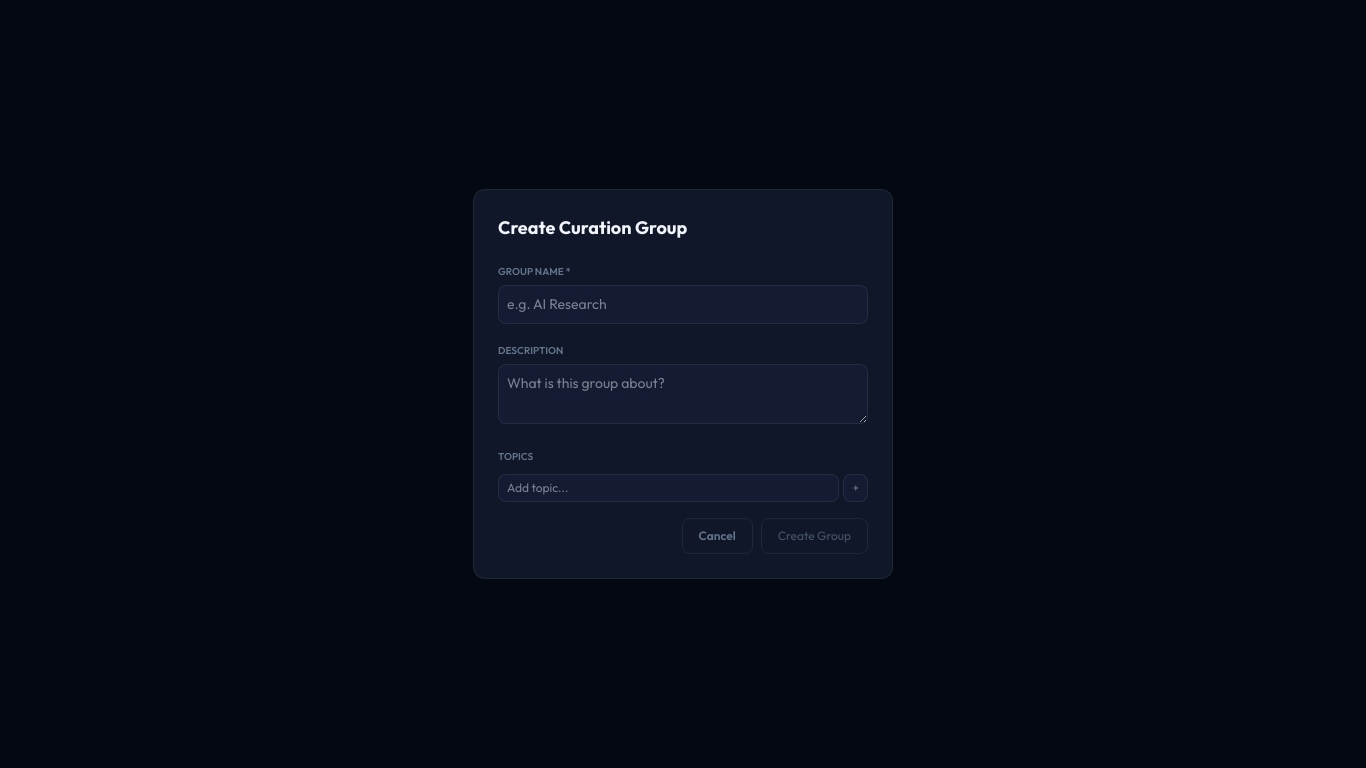
Scenario: CreateGroupModal › removes topic when x is clicked
This screenshot has width=1366, height=768.
Type "removeme" into the field with placeholder "Add topic..." at (669, 488), box top-left (498, 474), bottom-right (840, 502)
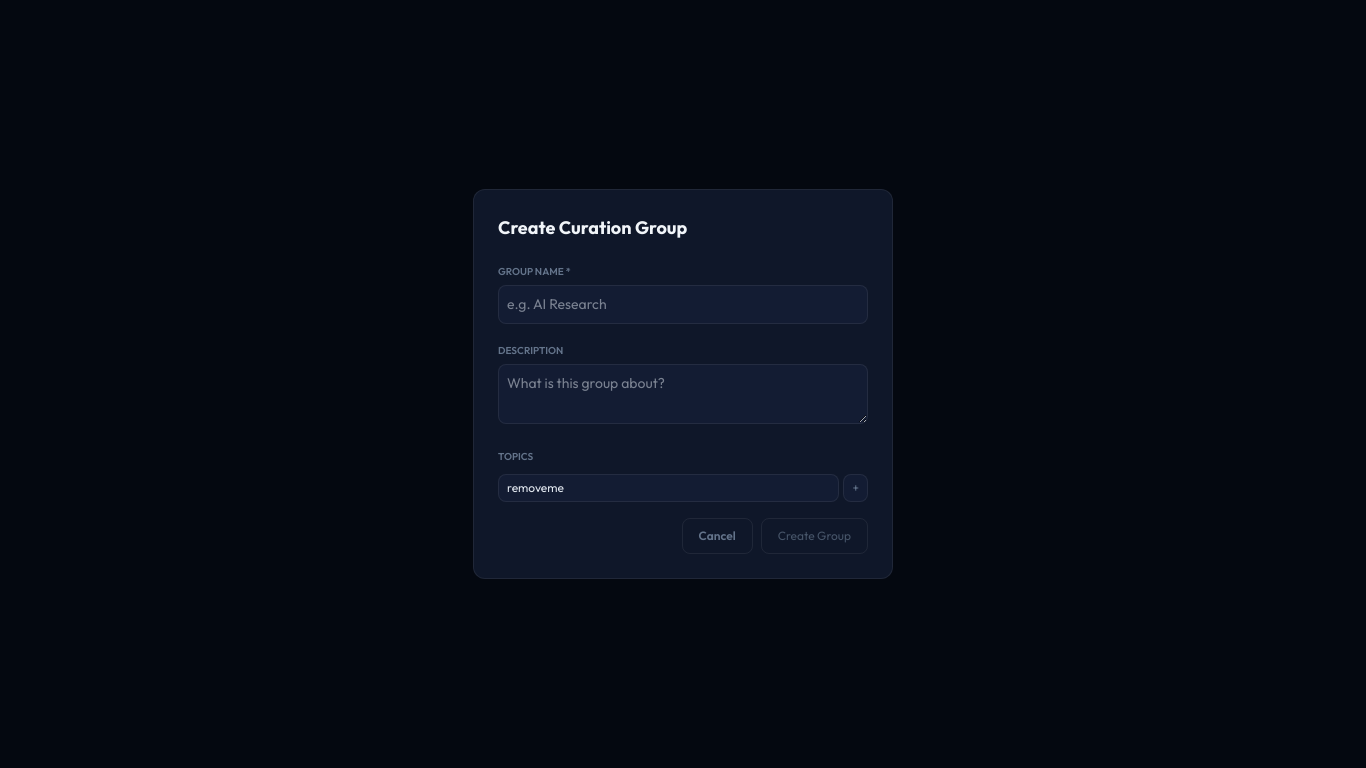
Click the button "+" at (856, 488), box top-left (844, 474), bottom-right (868, 502)
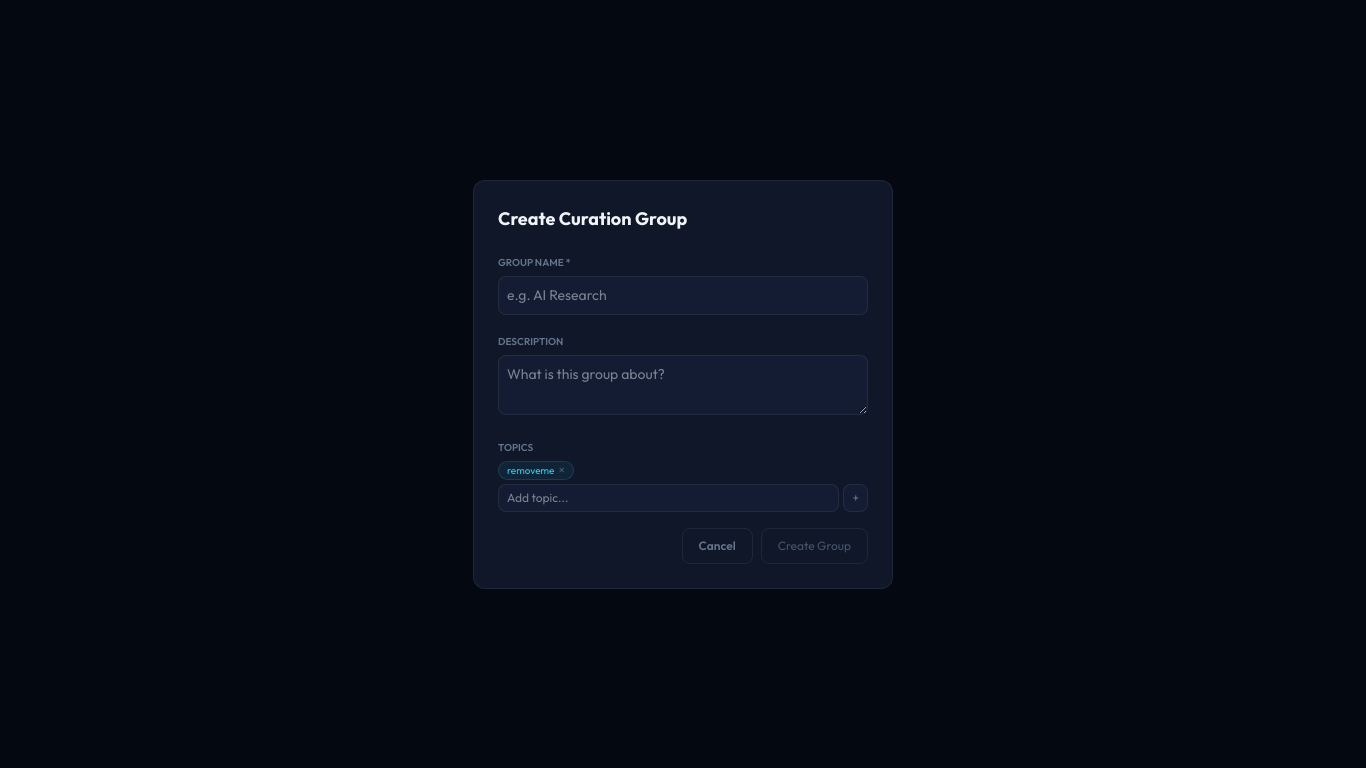
Expected: the text "removeme" is shown, top-left (507, 464), bottom-right (554, 476)
Click the × button
Click the button "×" at (562, 470), box top-left (558, 464), bottom-right (565, 476)
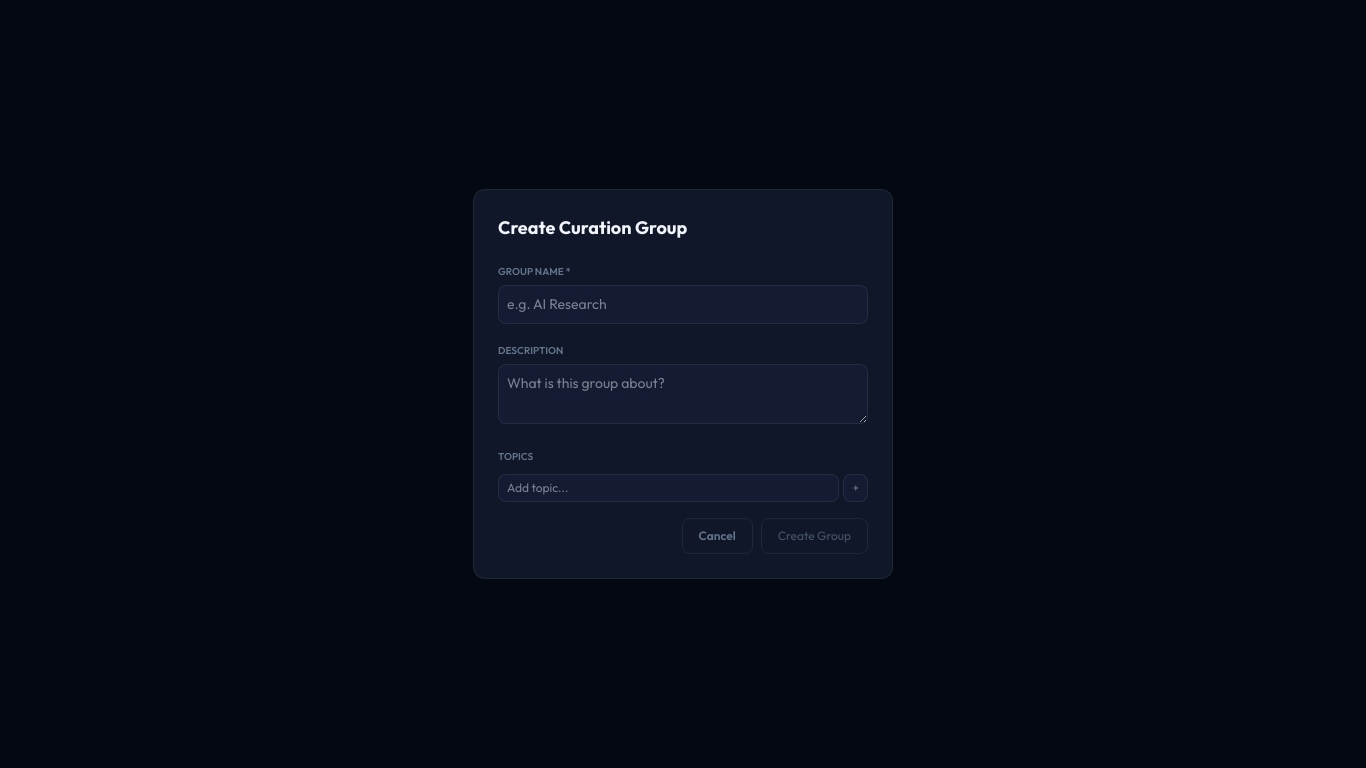
Expected: the text "removeme" is gone
